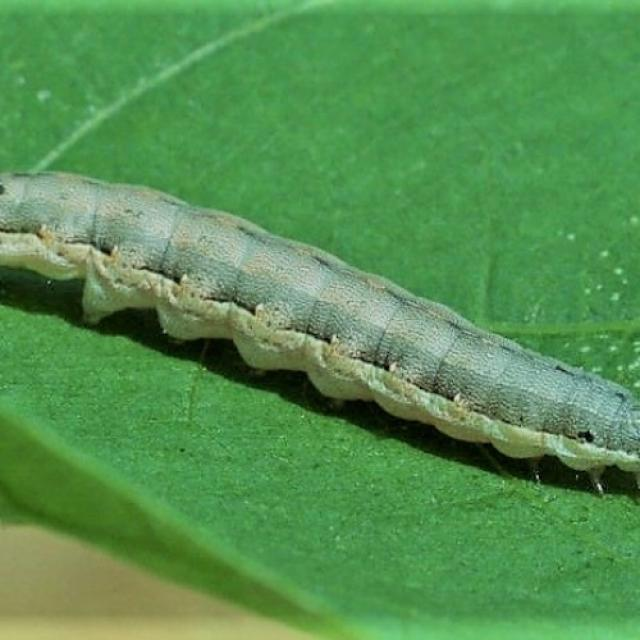armyworm: (0, 165, 639, 506)
